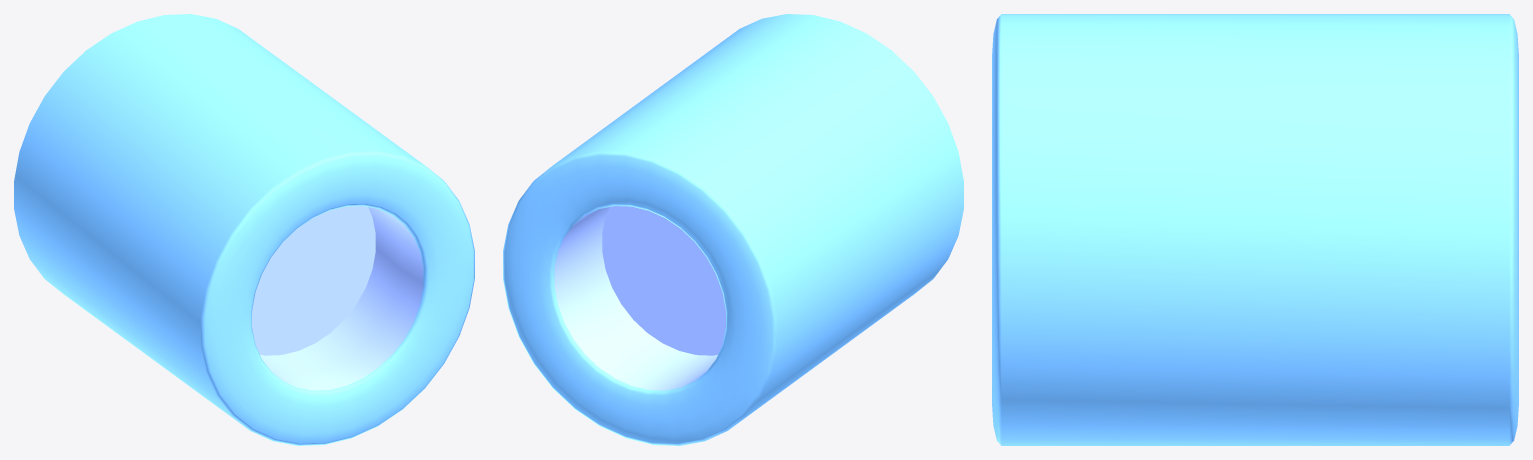
3 renders of one model, left to right at view 1: azimuth 30°, elevation 25°; view 2: azimuth 150°, elevation 25°; view 3: azimuth 270°, elevation 25°, orthographic. The views are drawn at different scales.
Visible parts, largest first — view 1: Tube-whole; view 2: Tube-whole; view 3: Tube-whole.
Part boxes in pixels (x1,y1,x2,y2): Tube-whole: [14, 14, 474, 445]; Tube-whole: [503, 14, 963, 445]; Tube-whole: [992, 14, 1518, 445].
Size of the model in its own units: 0.05 by 0.05 by 0.0612.
